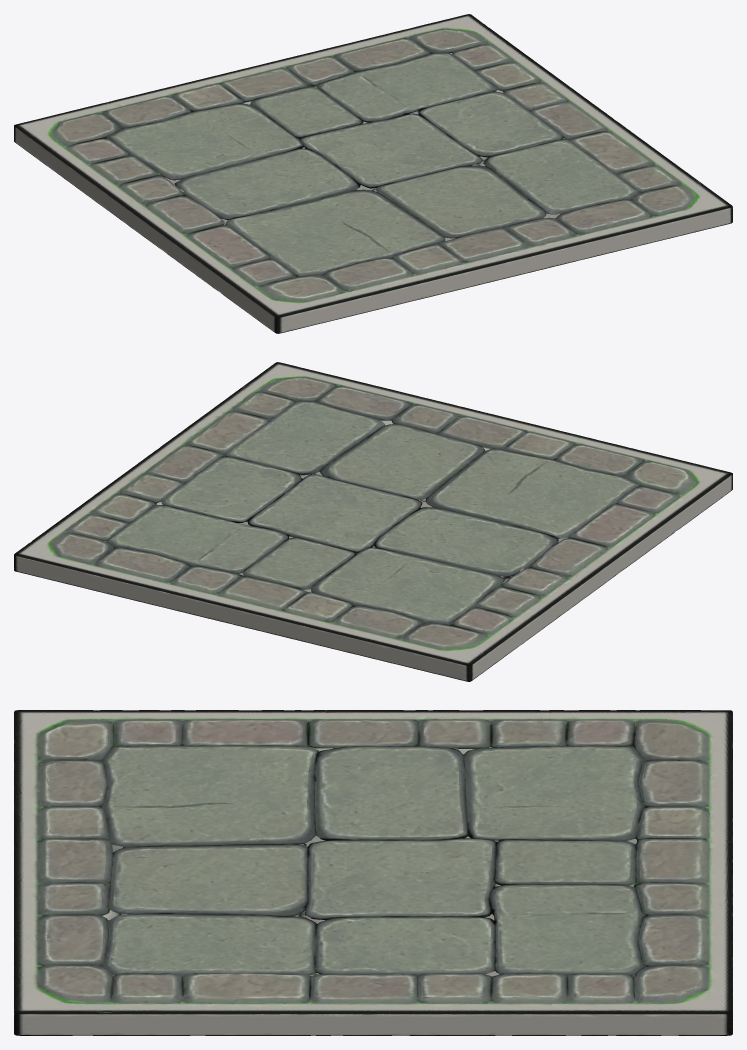
File: DungeonFloor_StoneSlabs_A_UnrealReady.glb
3 renders of one model, top to bottom at view 1: azimuth 30°, elevation 25°; view 2: azimuth 150°, elevation 25°; view 3: azimuth 270°, elevation 25°, orthographic. The views are drawn at different scales.
Visible parts, largest first — view 1: DungeonFloor_StoneSlabs_A_UnrealReady; view 2: DungeonFloor_StoneSlabs_A_UnrealReady; view 3: DungeonFloor_StoneSlabs_A_UnrealReady.
Boxes of the visible parts, x1,y1,x2,y2 form: DungeonFloor_StoneSlabs_A_UnrealReady: [14, 14, 732, 333]; DungeonFloor_StoneSlabs_A_UnrealReady: [14, 362, 732, 681]; DungeonFloor_StoneSlabs_A_UnrealReady: [14, 710, 732, 1035].
Bounding box in the file's own units: 6 × 0.24 × 6.
Materials: 1 (1 with a texture image).
